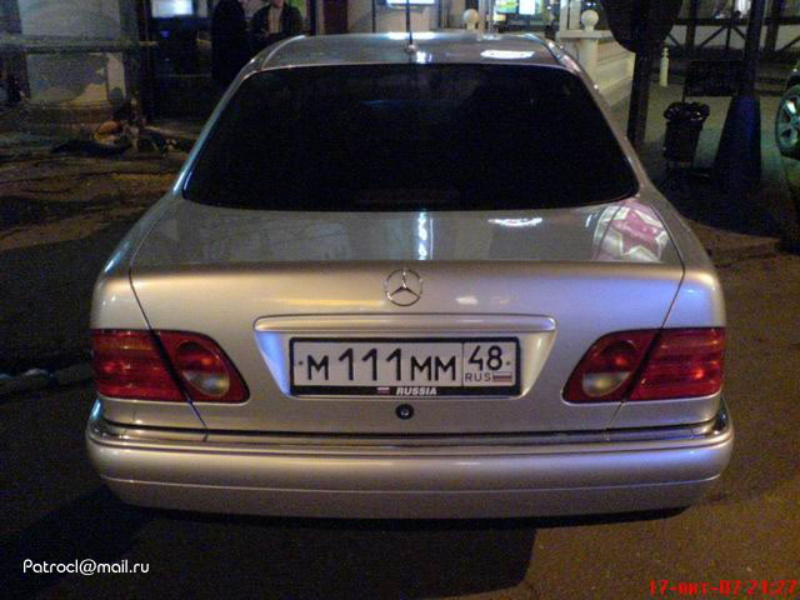car: (85, 32, 734, 520)
plate: (294, 342, 516, 385)
